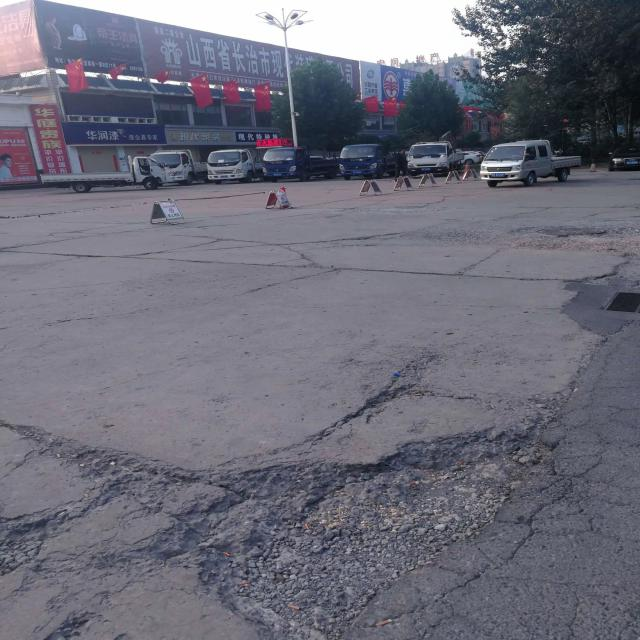Pothole: (4, 418, 558, 629), (357, 370, 462, 410)
